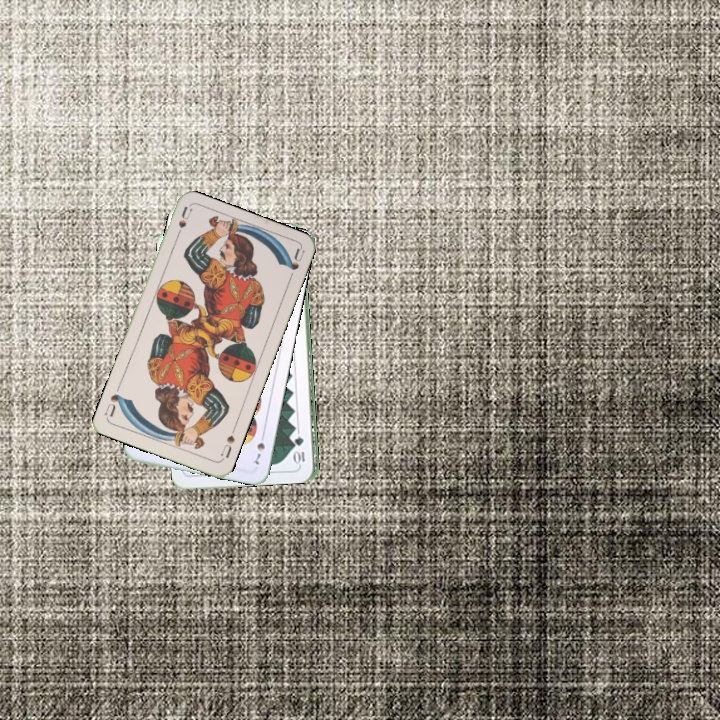G10: (293, 432, 307, 467)
S7: (251, 429, 267, 467)
SU: (171, 204, 195, 244), (216, 424, 238, 461)
